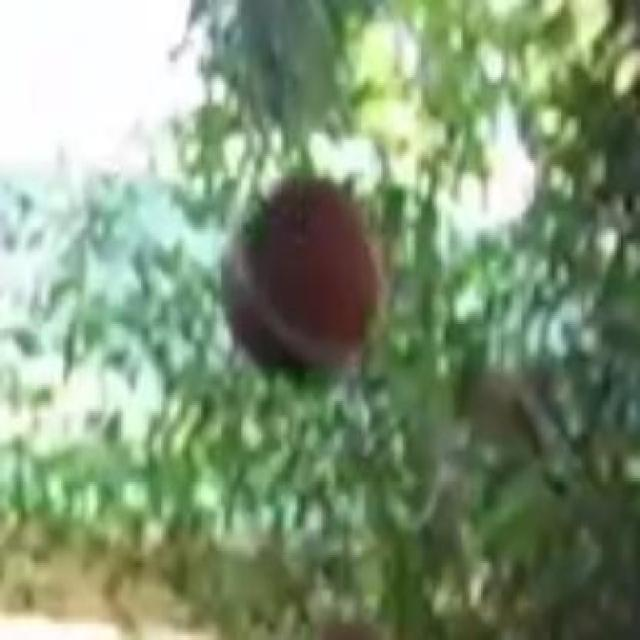Ball: (206, 160, 389, 399)
